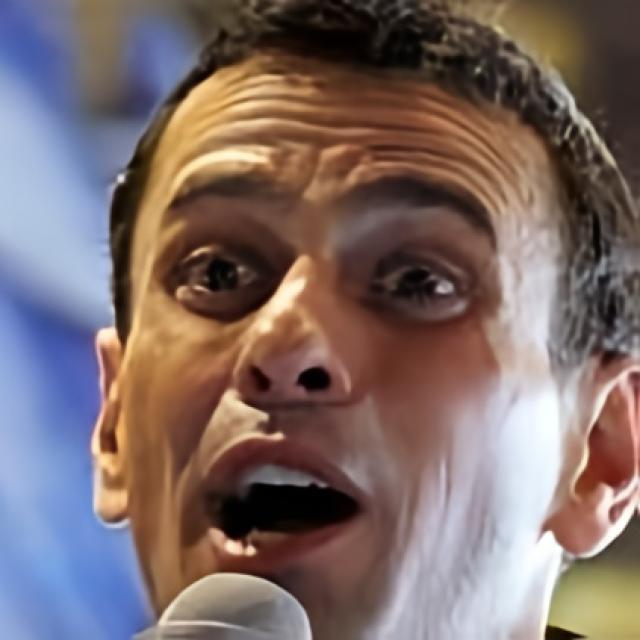fear: (115, 50, 560, 640)
